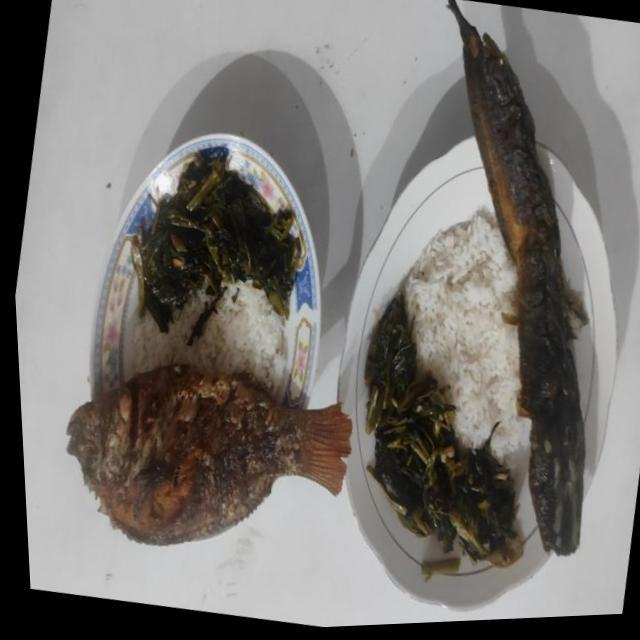ikan_mujair: (66, 365, 352, 544)
nasi_putih: (402, 205, 528, 463), (123, 281, 289, 398)
tumis_kangkung: (364, 293, 523, 566), (130, 146, 306, 332)
